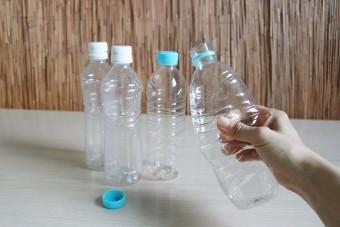bottle: (188, 43, 281, 209), (100, 46, 144, 183), (144, 50, 189, 181), (79, 41, 109, 170)
